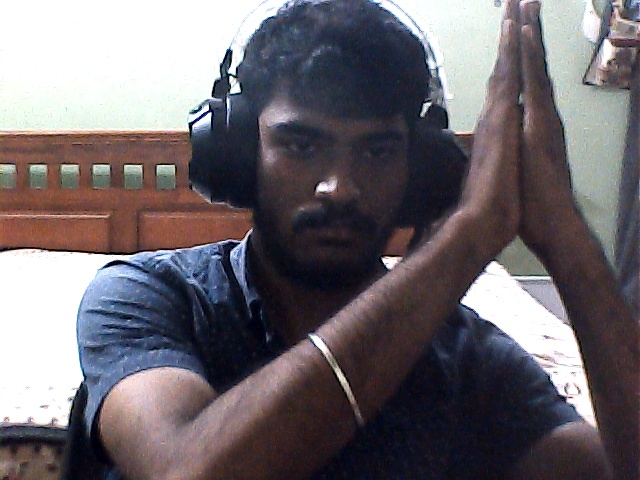Sign: (452, 0, 589, 270)
